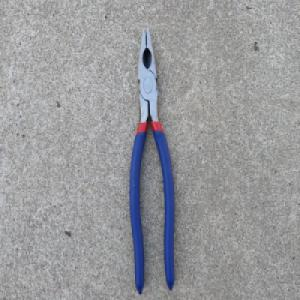Pliers: (127, 24, 176, 299)
